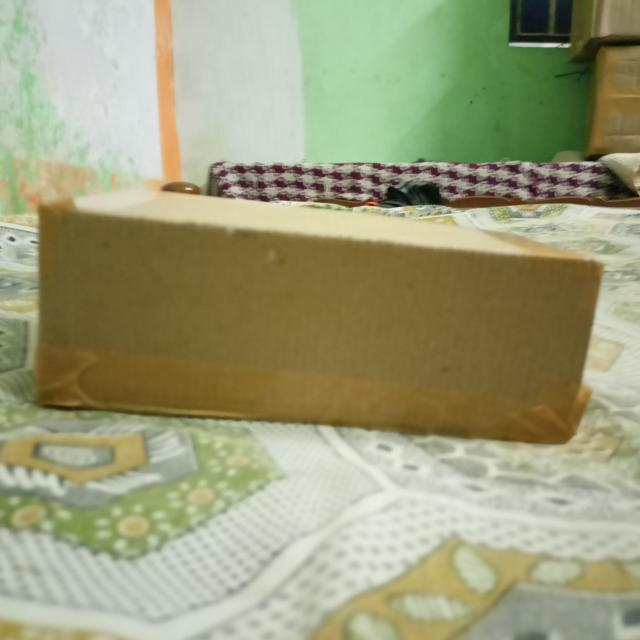box: (36, 208, 601, 441)
